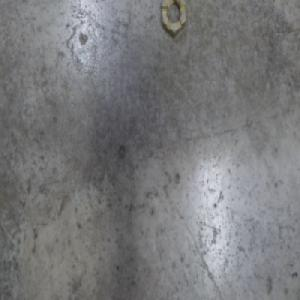Nut: (160, 0, 187, 40)
